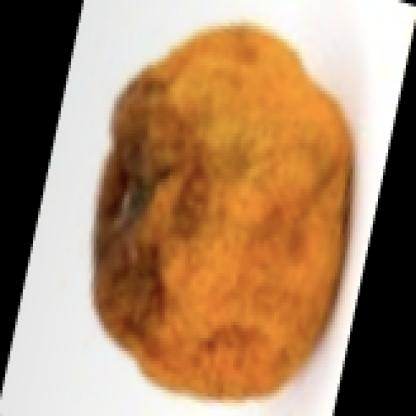rotten: (95, 21, 352, 396)
